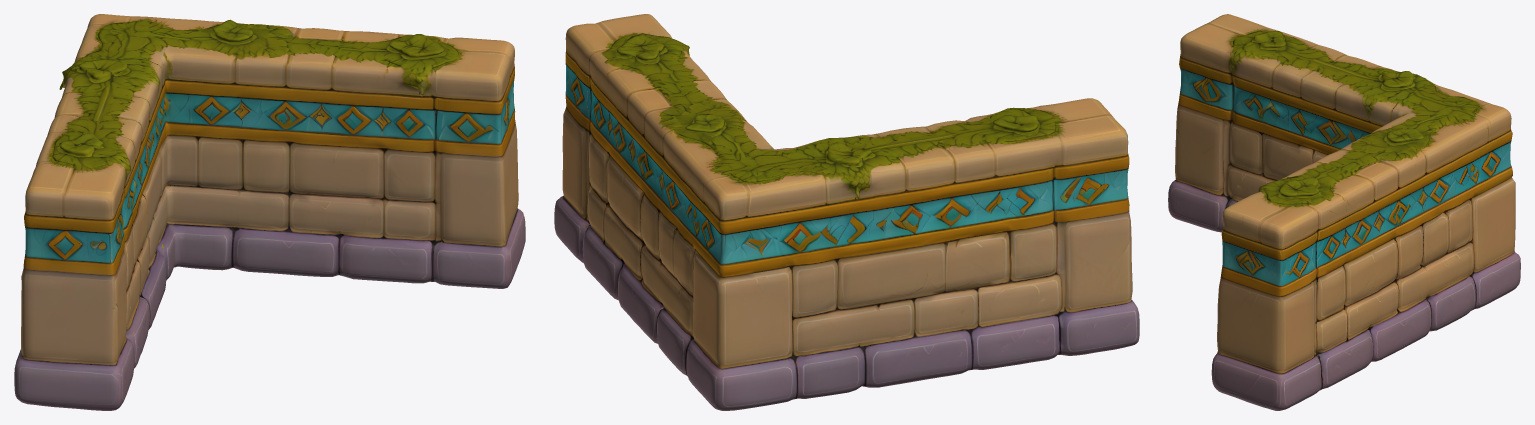
File: 13-garden-corner-wall.glb
3 renders of one model, left to right at view 1: azimuth 30°, elevation 25°; view 2: azimuth 150°, elevation 25°; view 3: azimuth 270°, elevation 25°, orthographic. The views are drawn at different scales.
Visible parts, largest first — view 1: tripo_node_8fe4370b; view 2: tripo_node_8fe4370b; view 3: tripo_node_8fe4370b.
Part boxes in pixels (x1,y1,x2,y2): tripo_node_8fe4370b: (14,14,525,410); tripo_node_8fe4370b: (554,14,1139,410); tripo_node_8fe4370b: (1168,14,1520,410).
Bounding box in the file's own units: 1.53 × 0.6 × 1.01.
Materials: 1 (1 with a texture image).
